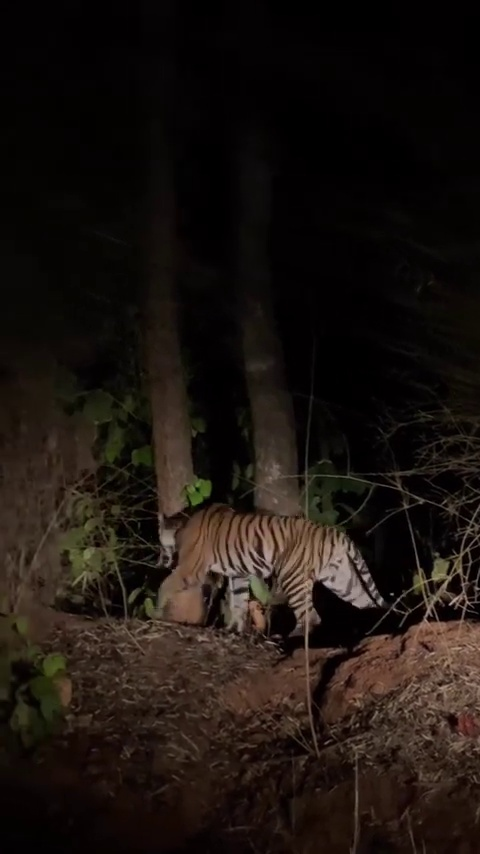Tiger: (151, 498, 391, 639)
